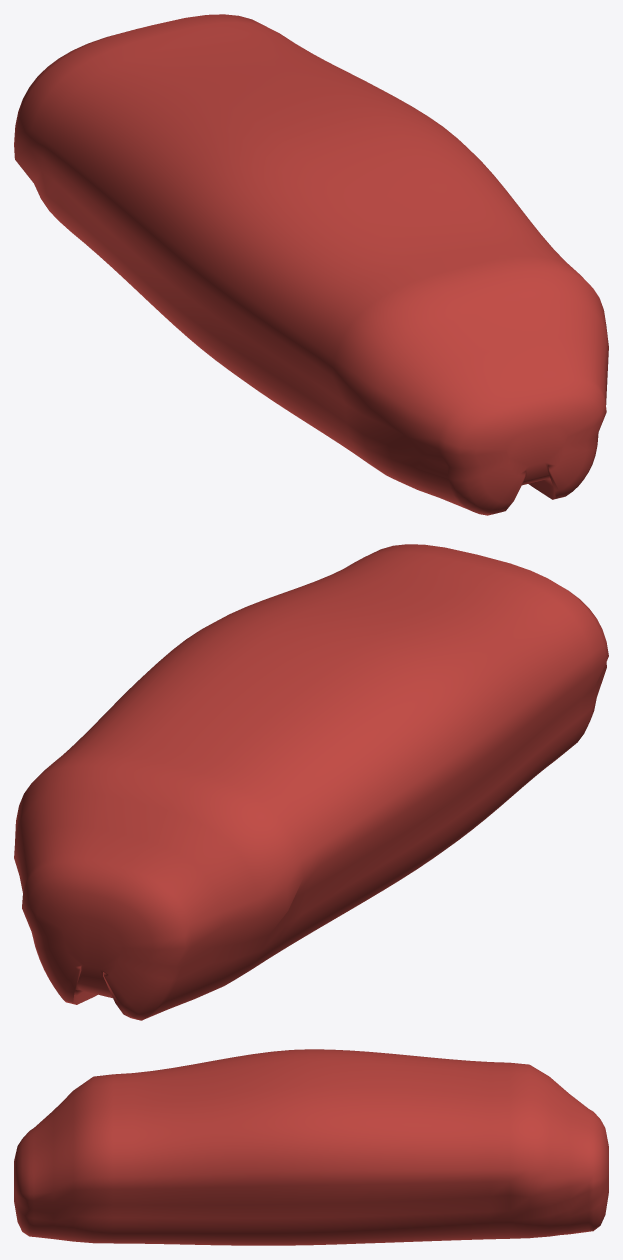
Rendered from fatbob.glb.
3 renders of one model, top to bottom at view 1: azimuth 30°, elevation 25°; view 2: azimuth 150°, elevation 25°; view 3: azimuth 270°, elevation 25°, orthographic. The views are drawn at different scales.
Parts seen in each view (by area): view 1: lod0; view 2: lod0; view 3: lod0.
Part boxes in pixels (x1,y1,x2,y2): lod0: (14,14,608,515); lod0: (14,544,608,1020); lod0: (14,1049,608,1245).
Size of what is drawn, in the model's own units: 0.3989 by 0.2835 by 1.
